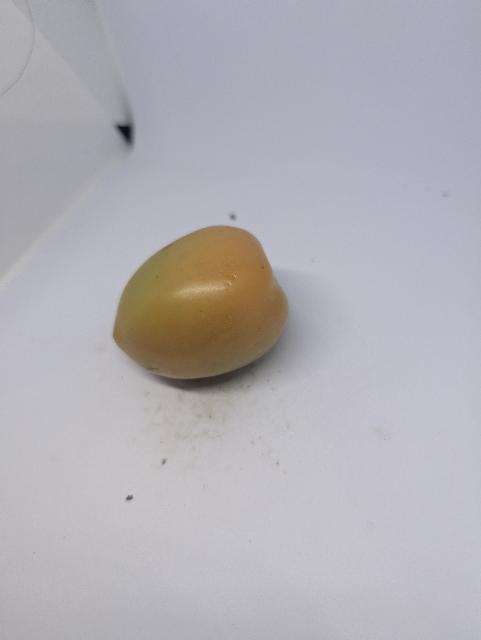turning: (113, 226, 289, 379)
